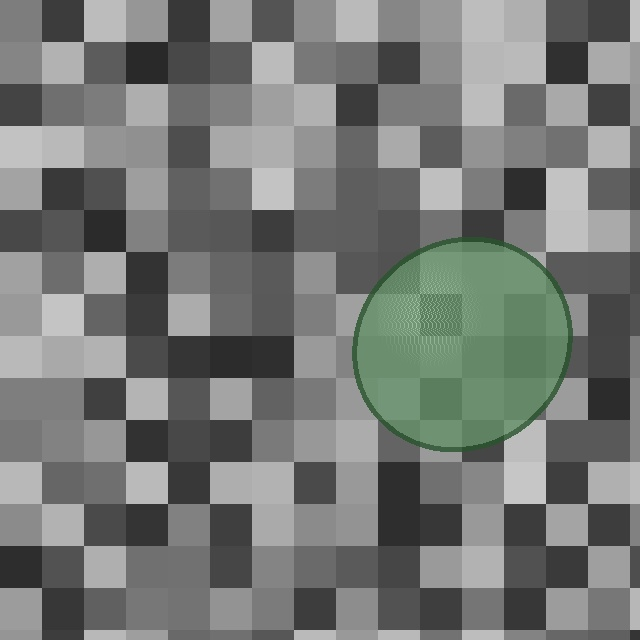lens: (355, 239, 569, 449)
